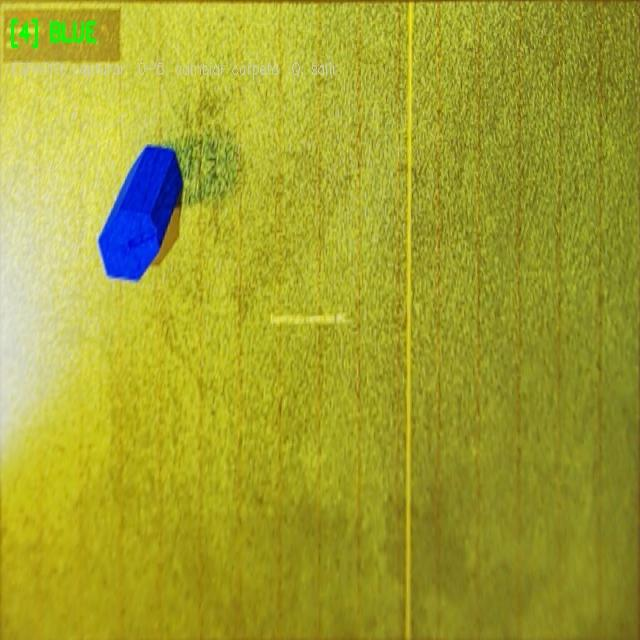blue: (97, 144, 182, 280)
